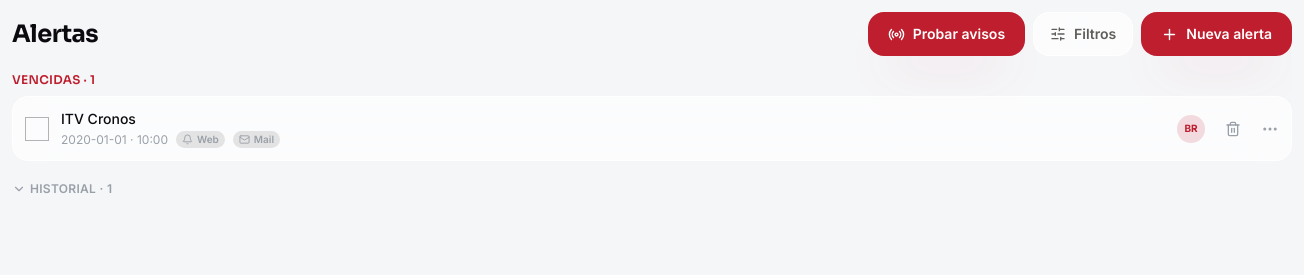
Test: AlertasListPage › siempre trae las leídas y las deja abajo en Historial (no se borran)
Check: the text "ITV Cronos" is shown, box [61,110,136,127]
Click the button "Historial · 1" at (62, 189), box [12,181,112,197]
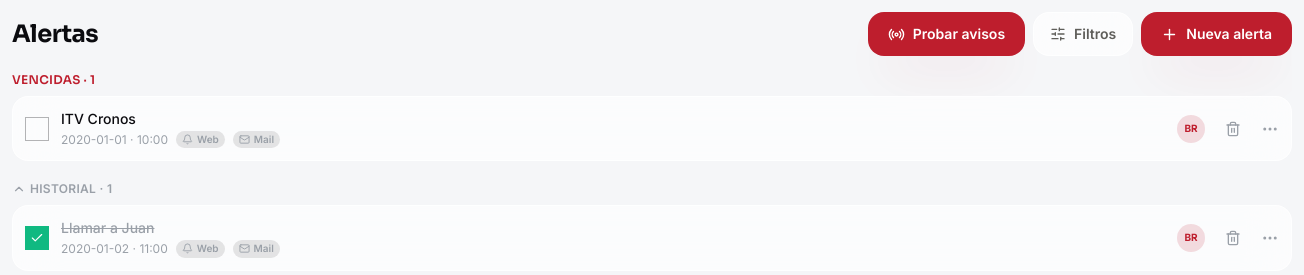
Check: the text "Llamar a Juan" is shown, box [61,219,154,236]
